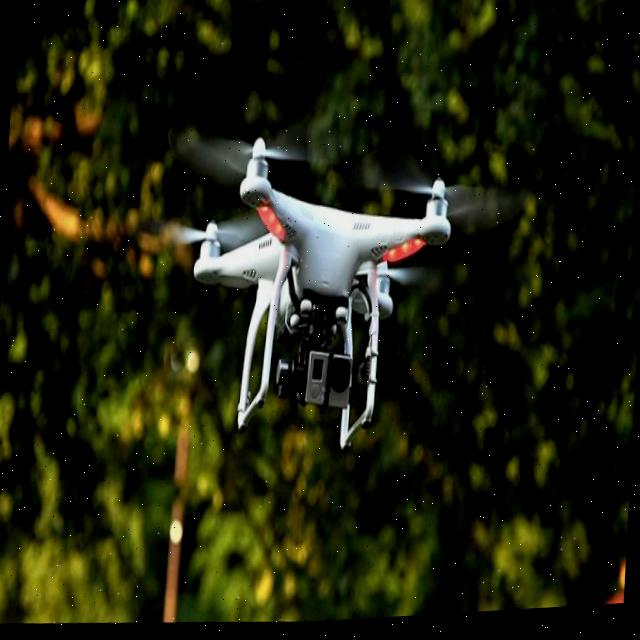drone: (182, 126, 460, 475)
